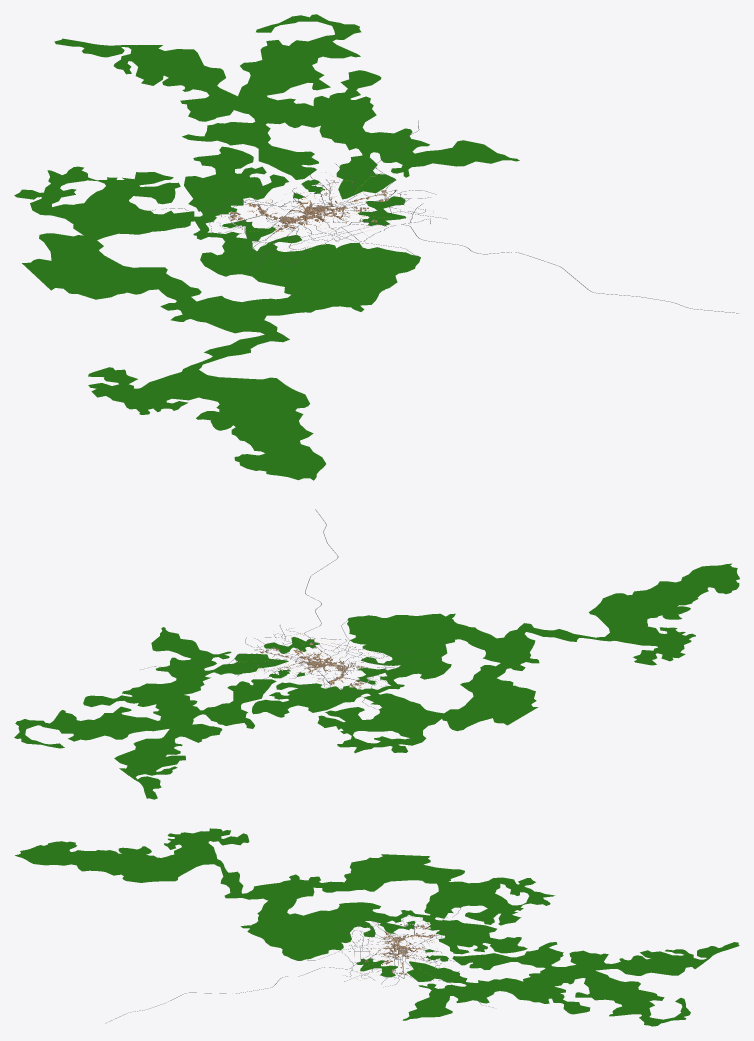
3 views of the same model, one above another, from view 1: azimuth 30°, elevation 25°; view 2: azimuth 150°, elevation 25°; view 3: azimuth 270°, elevation 25° (orthographic). The views are drawn at different scales.
Visible parts, largest first — view 1: map_5.osm_forest, map_5.osm_buildings, map_5.osm_roads_unclassified; view 2: map_5.osm_forest, map_5.osm_buildings, map_5.osm_roads_unclassified; view 3: map_5.osm_forest, map_5.osm_buildings, map_5.osm_roads_unclassified.
Boxes of the visible parts, x1,y1,x2,y2 form: map_5.osm_forest: (14, 14, 519, 480); map_5.osm_buildings: (221, 180, 391, 232); map_5.osm_roads_unclassified: (140, 120, 447, 272); map_5.osm_forest: (14, 563, 739, 799); map_5.osm_buildings: (260, 642, 373, 688); map_5.osm_roads_unclassified: (140, 625, 429, 712); map_5.osm_forest: (15, 828, 739, 1026); map_5.osm_buildings: (364, 923, 440, 975); map_5.osm_roads_unclassified: (333, 904, 493, 1007).
Bounding box in the file's own units: 10212 × 21.64 × 15814.
